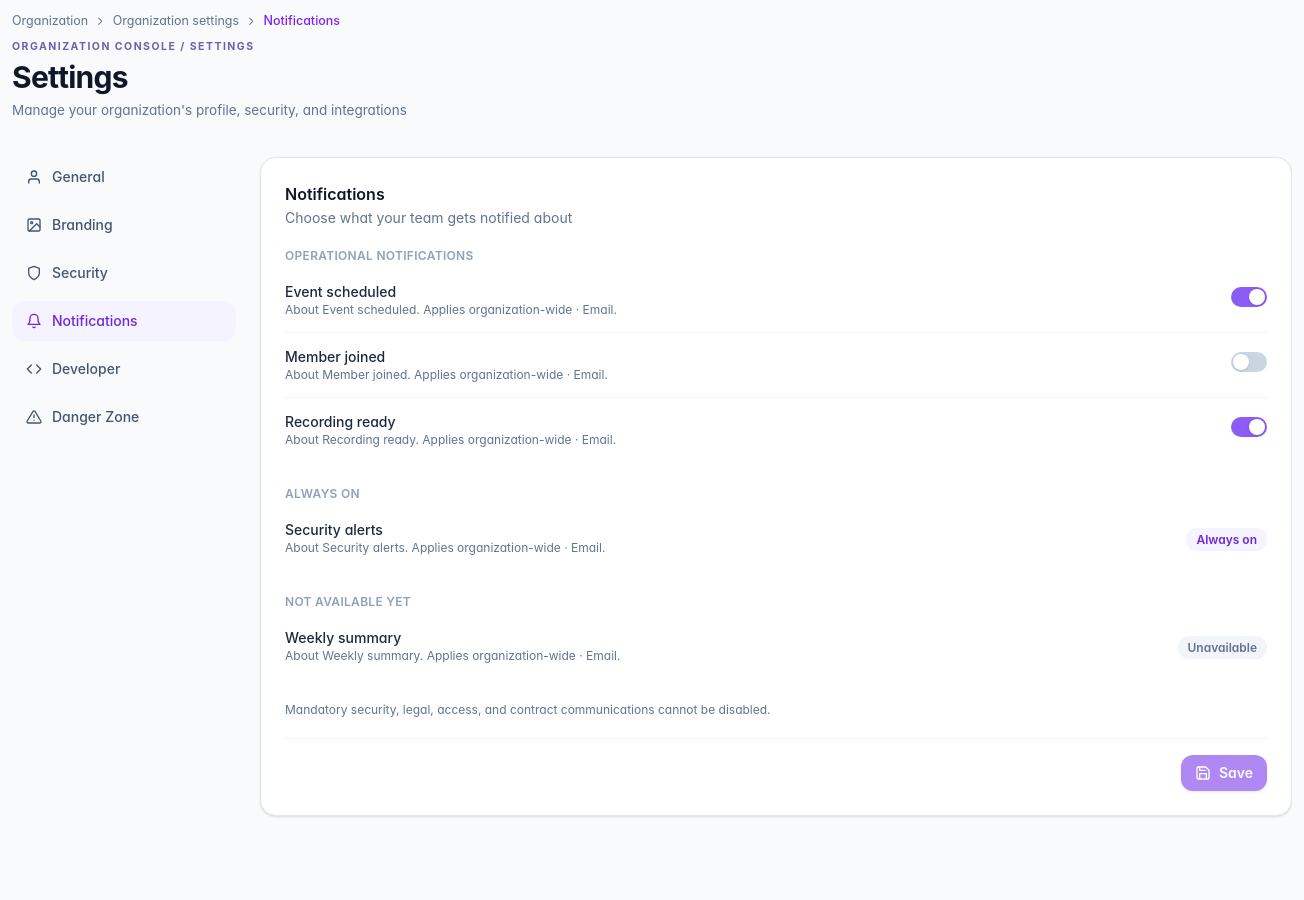
it: a toggle reaches the database › enables Save, which was dead while the toggle wrote a key the payload ignored
Click the 1st switch: (1249,297) [1231, 287, 1267, 307]
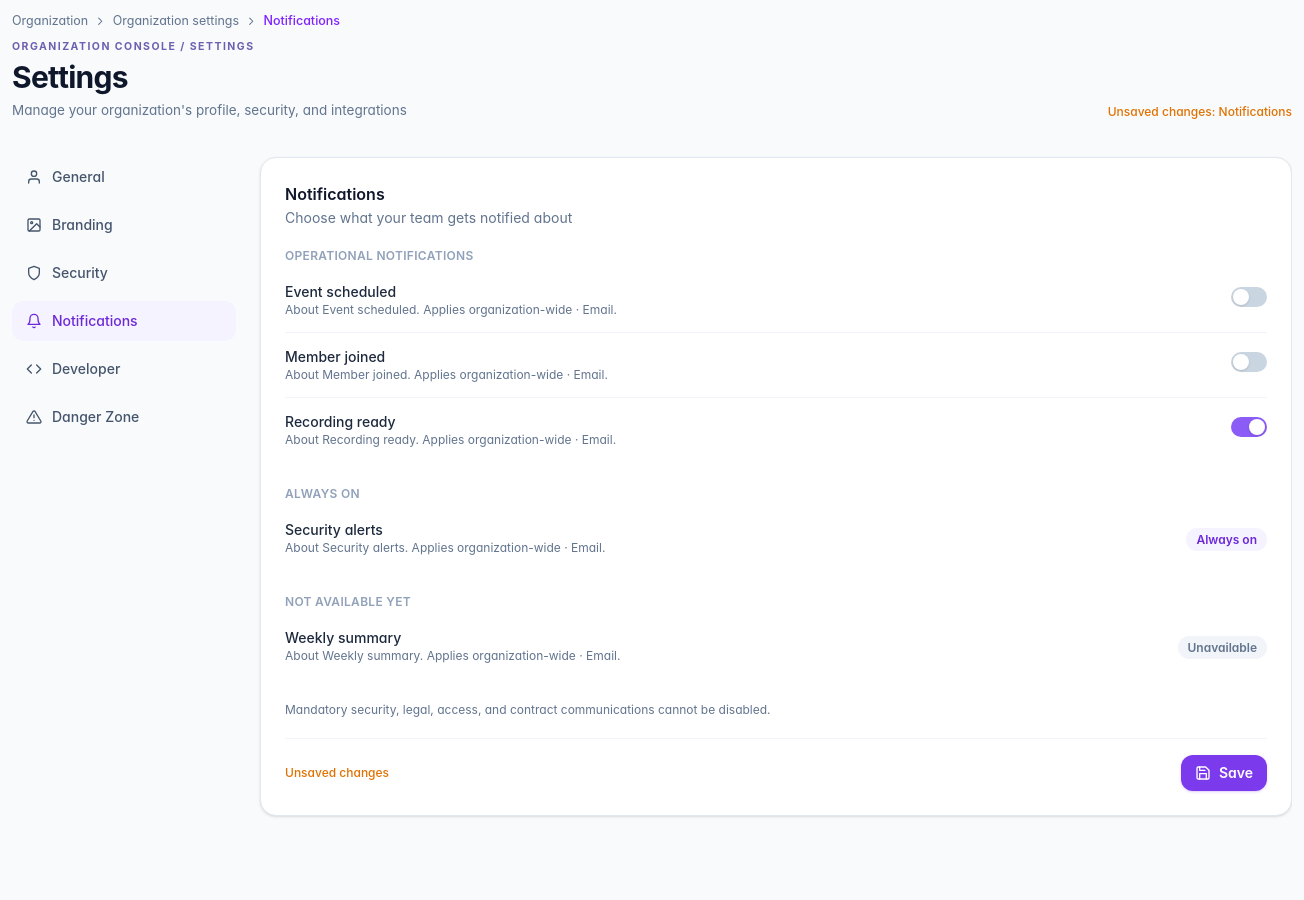
Now the button with aria-label "Save notifications" is enabled, box [1181, 755, 1267, 791]
